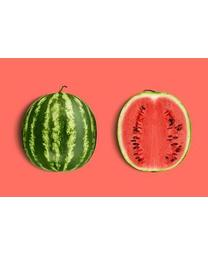watermelon: (116, 89, 191, 174), (22, 93, 97, 171)
